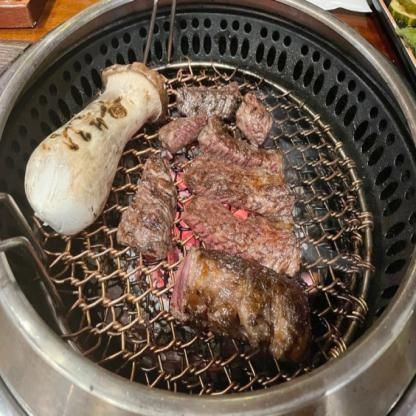Carne: (173, 250, 301, 360), (179, 196, 309, 278), (116, 145, 185, 262), (184, 147, 300, 214), (202, 133, 289, 170), (182, 86, 247, 120), (242, 91, 274, 143), (161, 116, 205, 144)
